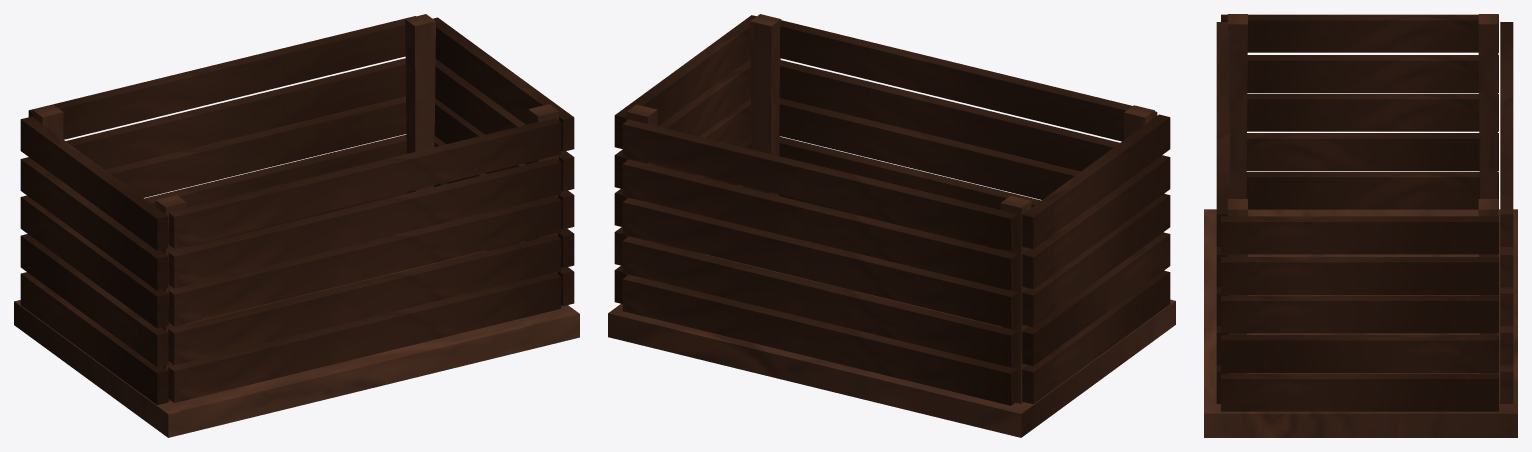
Rendered from Caixa_3.glb.
The picture shows the model from 3 angles, left to right: view 1: azimuth 30°, elevation 25°; view 2: azimuth 150°, elevation 25°; view 3: azimuth 270°, elevation 25°; orthographic projection.
Visible parts, largest first — view 1: Caixa.3; view 2: Caixa.3; view 3: Caixa.3.
Part boxes in pixels (box(x1,y1,x2,y2)): Caixa.3: box(14, 14, 579, 437); Caixa.3: box(608, 14, 1175, 437); Caixa.3: box(1204, 14, 1517, 437).
Bounding box in the file's own units: 1.62 × 0.8151 × 1.04.
Materials: 1 (1 with a texture image).
